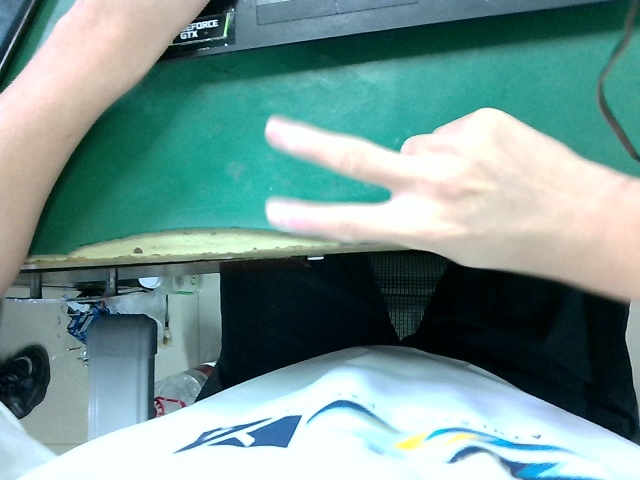scissor: (257, 91, 601, 293)
